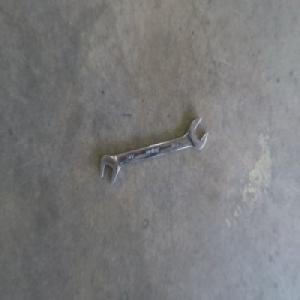Wrench: (98, 114, 208, 184)
